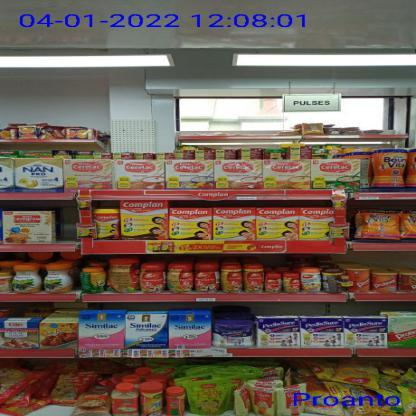Complan Kesar Badam: (256, 207, 300, 240)
Complan Royal Chocolate: (121, 199, 168, 241), (170, 208, 213, 242), (94, 209, 120, 242)
